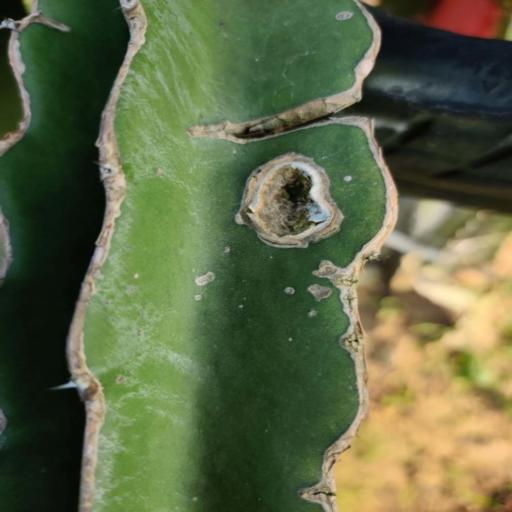stemcanker: (193, 322, 236, 371), (225, 293, 265, 323), (216, 235, 250, 269), (243, 45, 275, 81), (249, 419, 290, 447), (326, 10, 365, 39), (278, 333, 312, 360), (110, 372, 148, 396), (335, 368, 360, 404), (305, 275, 333, 305), (301, 308, 333, 332), (198, 268, 228, 293), (183, 482, 215, 504), (308, 364, 333, 391), (334, 166, 360, 191), (272, 278, 301, 300), (221, 145, 251, 166), (129, 267, 154, 292), (233, 471, 261, 492), (192, 291, 216, 315), (250, 490, 274, 508)
